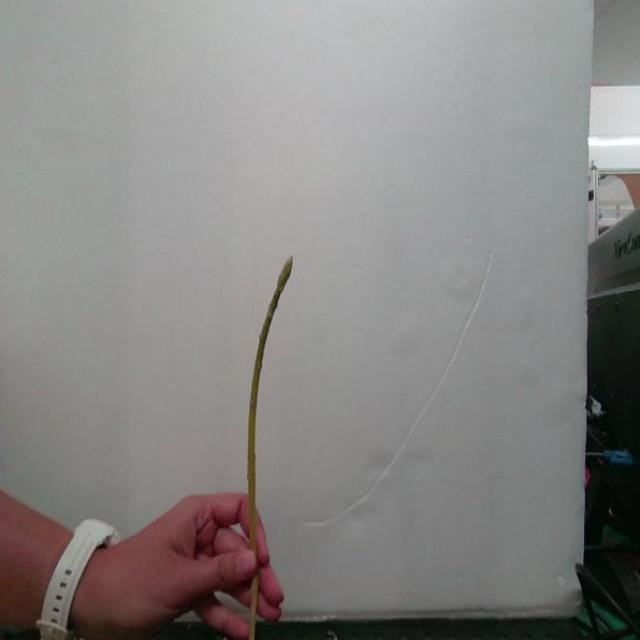aspargus: (248, 258, 295, 640)
